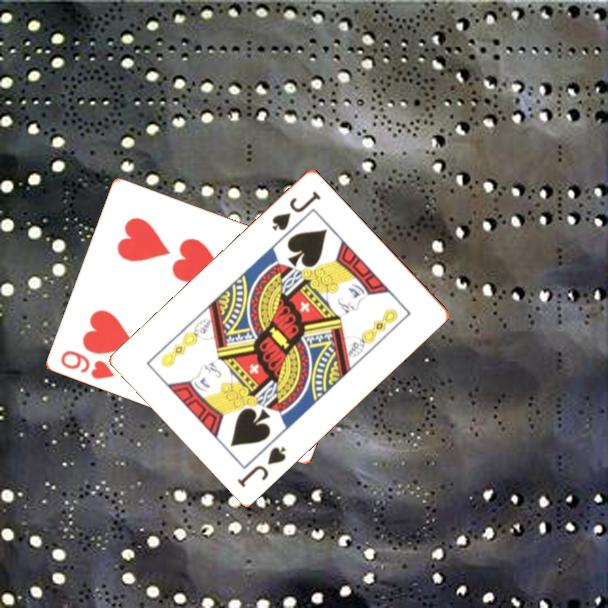h09: (57, 347, 118, 382)
s11: (234, 442, 289, 490), (268, 187, 324, 233)
